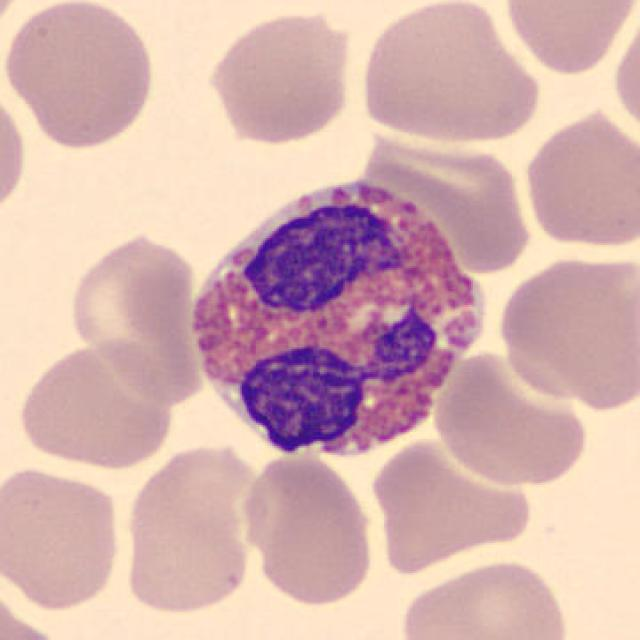Nuclei: (2, 2, 640, 640), (245, 305, 436, 451), (242, 205, 394, 310)
